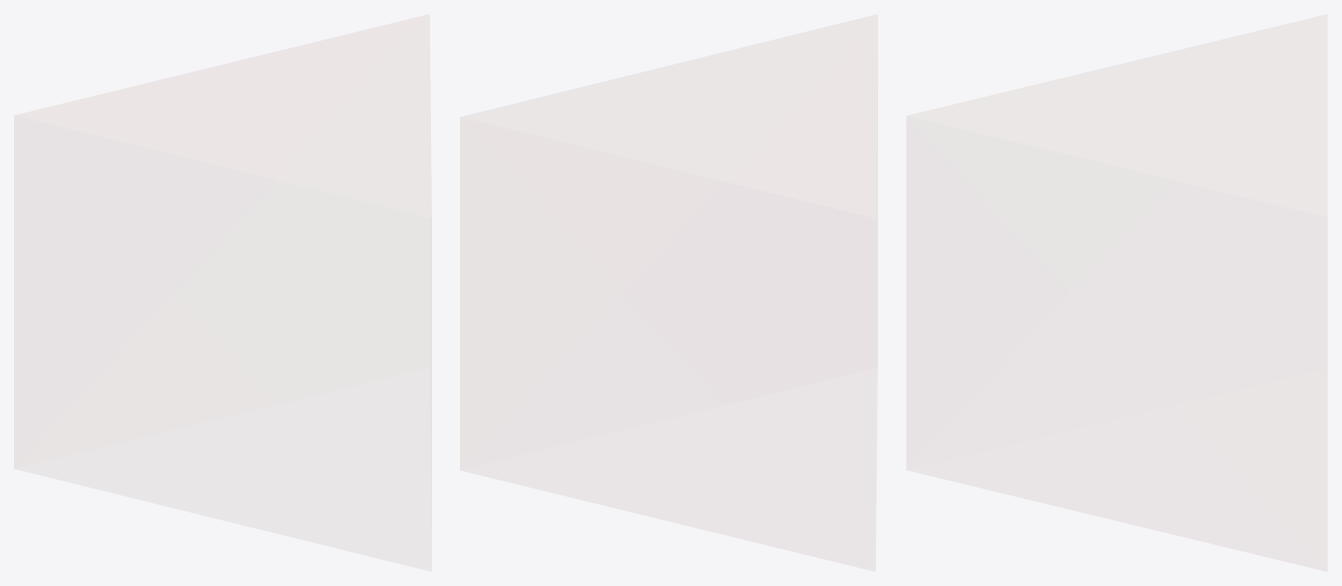
The model's file is prism_coral.glb.
3 renders of one model, left to right at view 1: azimuth 30°, elevation 25°; view 2: azimuth 150°, elevation 25°; view 3: azimuth 270°, elevation 25°, orthographic.
Bounding box in the file's own units: 1.6 × 1.3 × 1.4.
